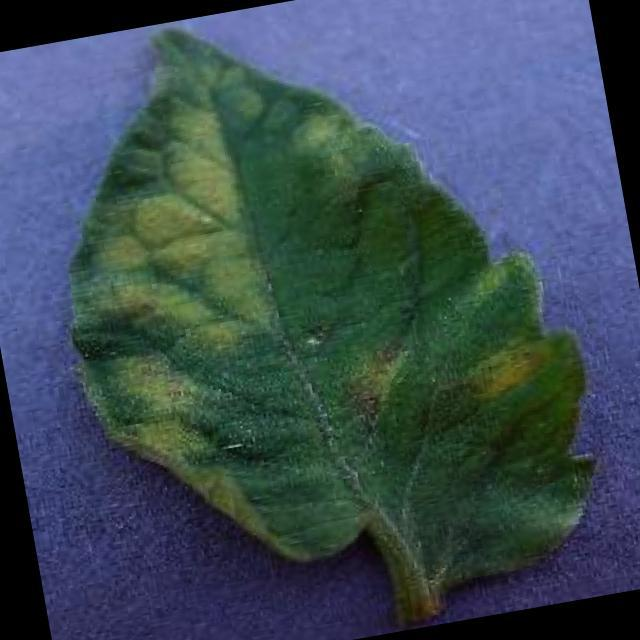Tomato mold leaf: (18, 0, 611, 640)
